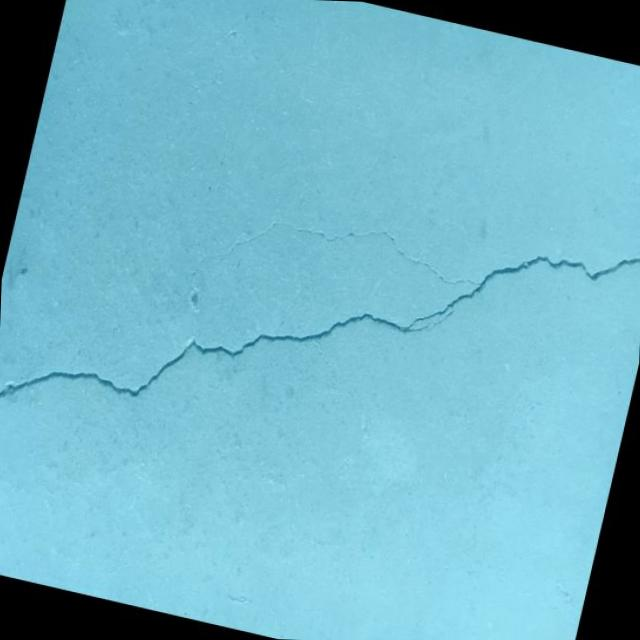crack: (0, 116, 640, 553)
